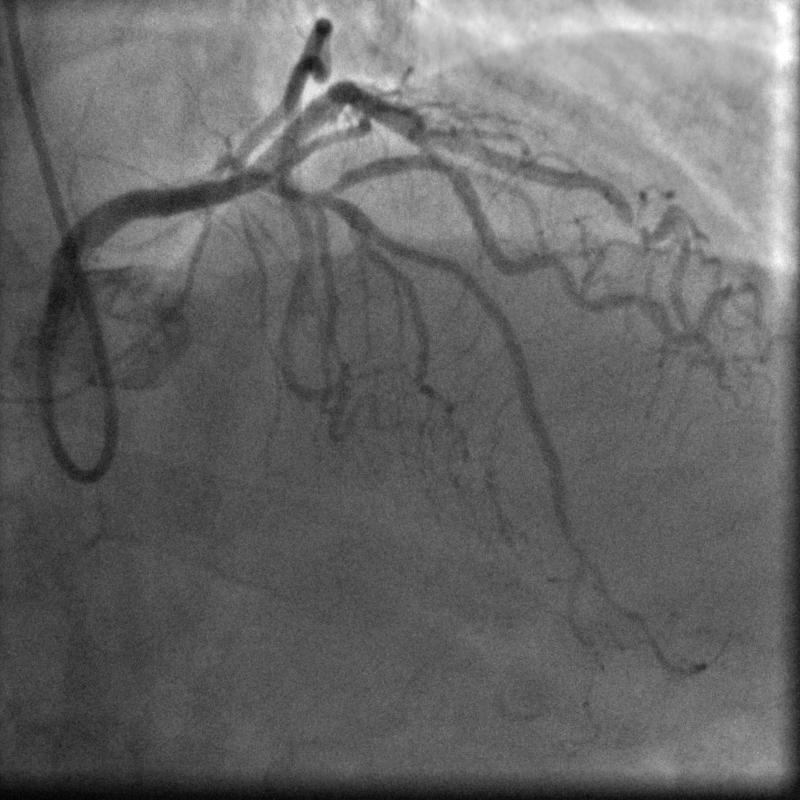Stenosis: (425, 146, 462, 187)
